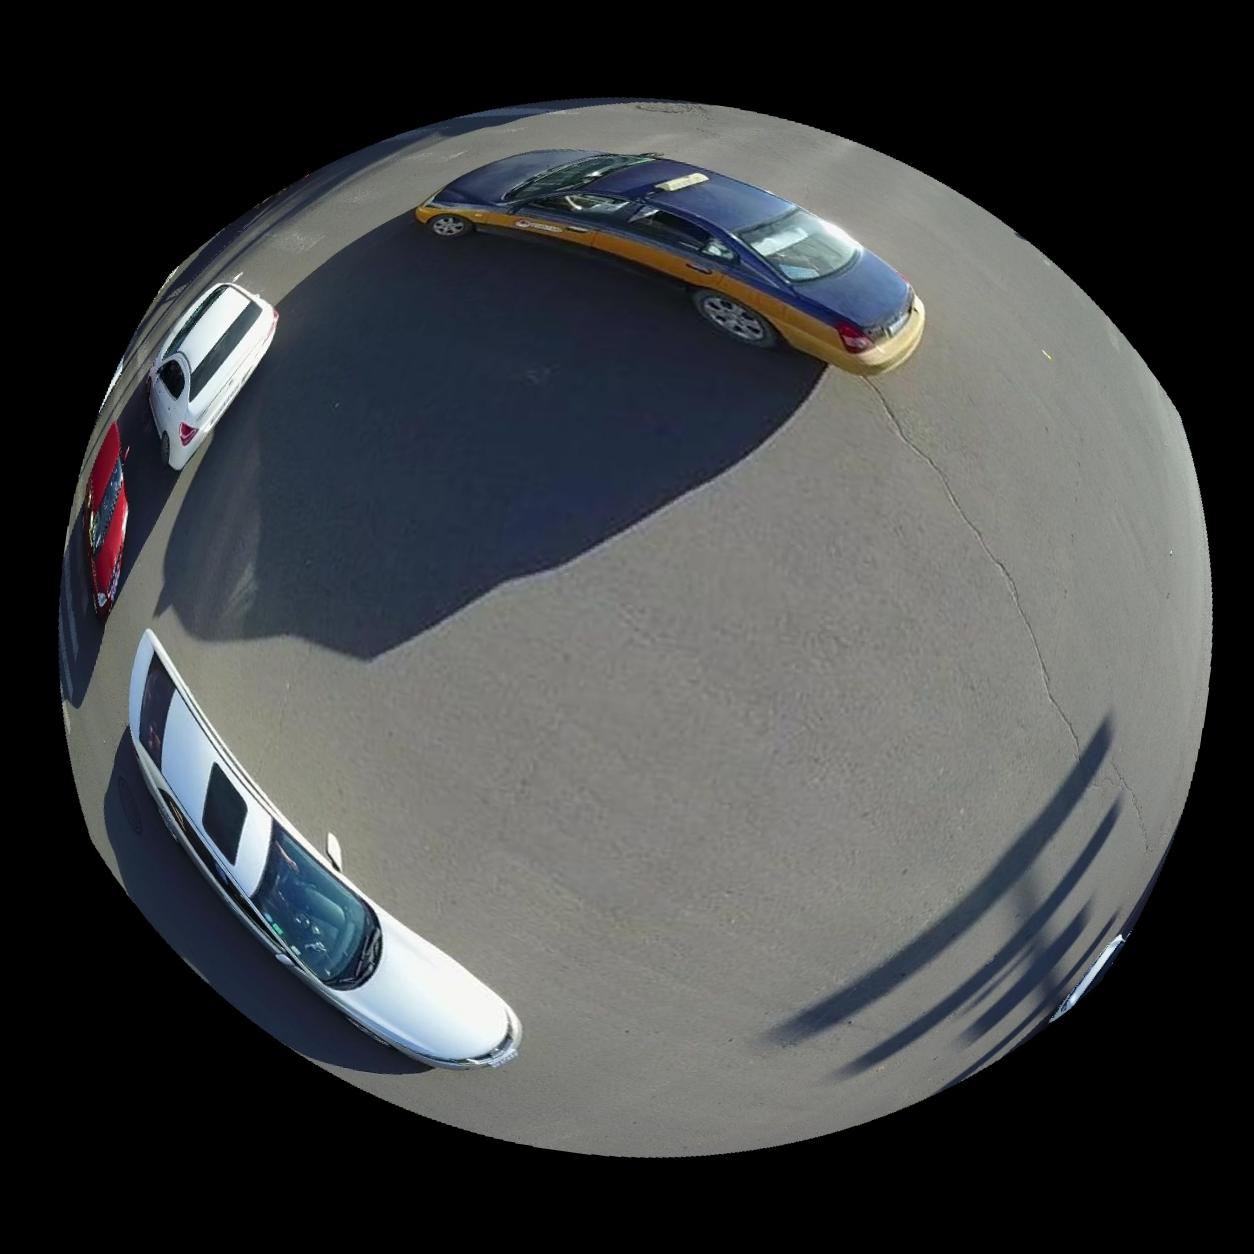cars: (127, 630, 521, 1071), (416, 149, 927, 373)
